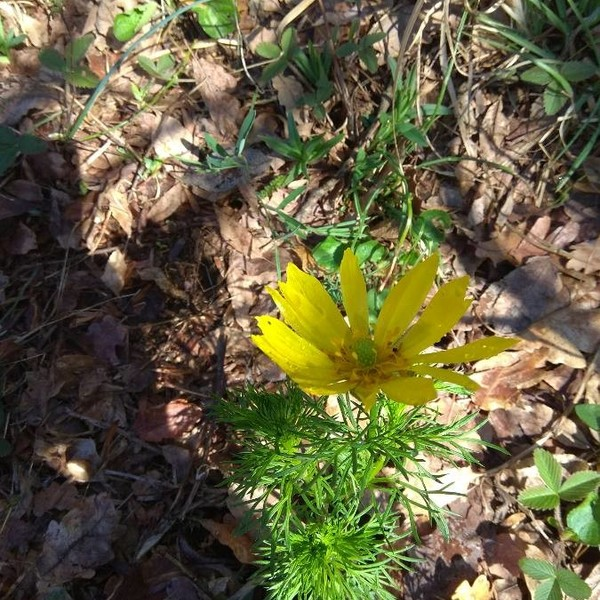obstacle: (260, 160, 512, 575)
